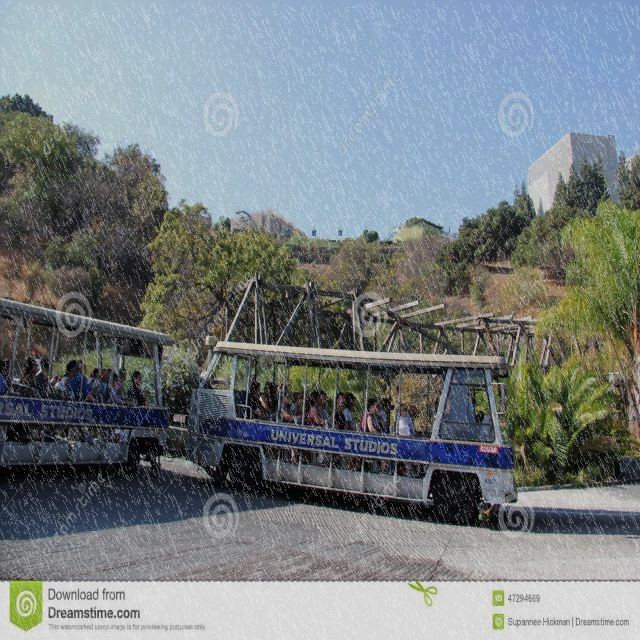pessoa: (28, 356, 62, 442), (361, 396, 391, 474), (66, 358, 94, 402), (246, 380, 270, 422), (463, 391, 481, 447), (126, 369, 150, 406), (88, 368, 112, 402), (258, 380, 278, 420), (18, 355, 40, 390), (90, 368, 111, 402), (278, 389, 298, 424), (111, 372, 130, 408), (342, 391, 358, 432), (399, 402, 417, 438), (90, 367, 108, 403), (333, 390, 349, 430), (57, 360, 77, 392), (0, 360, 17, 394), (289, 390, 304, 424), (316, 389, 329, 428), (378, 396, 390, 436), (406, 404, 420, 438), (378, 396, 390, 434), (114, 366, 128, 398), (316, 390, 328, 420), (270, 380, 286, 396), (22, 355, 38, 367), (71, 358, 77, 368)
